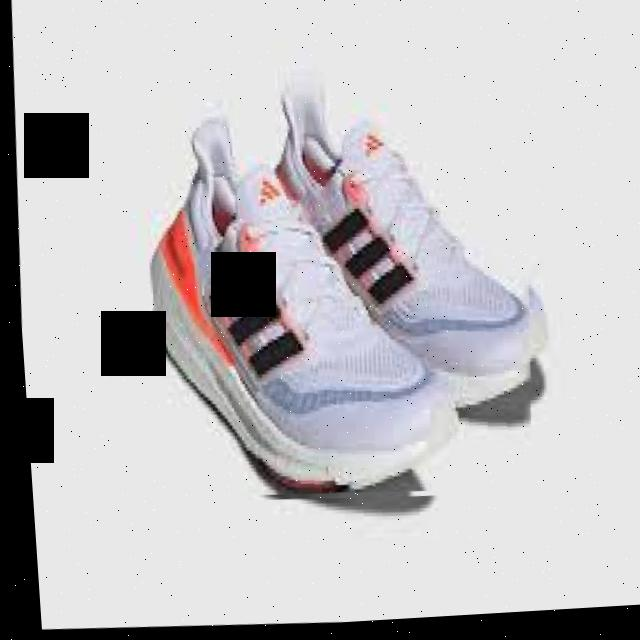shoe: (127, 54, 546, 512), (133, 102, 471, 515)
